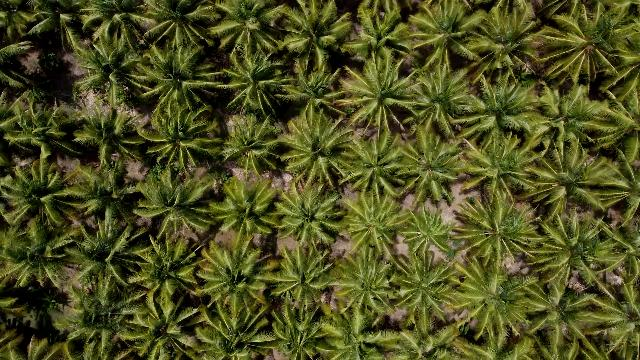trees: (534, 2, 639, 87), (524, 138, 630, 220), (527, 206, 620, 296), (452, 258, 546, 342), (135, 36, 223, 123), (452, 191, 546, 270), (340, 50, 426, 135), (458, 67, 551, 145), (454, 127, 547, 204), (532, 80, 624, 157), (65, 215, 153, 293), (196, 232, 276, 316), (138, 96, 224, 173), (134, 163, 219, 240), (122, 283, 206, 358), (217, 42, 295, 122), (282, 105, 360, 185), (56, 285, 140, 358), (405, 1, 490, 73), (339, 126, 413, 208), (69, 98, 149, 173), (390, 248, 463, 329), (2, 159, 82, 231), (131, 230, 207, 305), (1, 215, 75, 291), (333, 246, 403, 325), (3, 94, 81, 164), (64, 163, 142, 233), (339, 183, 411, 256), (214, 174, 287, 245), (272, 180, 347, 248), (200, 297, 279, 360), (531, 288, 607, 352), (269, 240, 339, 309), (219, 108, 288, 177), (329, 309, 415, 360), (269, 299, 340, 359), (78, 3, 159, 54), (280, 3, 350, 58), (284, 53, 347, 112), (605, 142, 640, 230), (4, 4, 68, 52), (460, 324, 541, 360), (594, 302, 640, 358), (604, 63, 640, 113)
